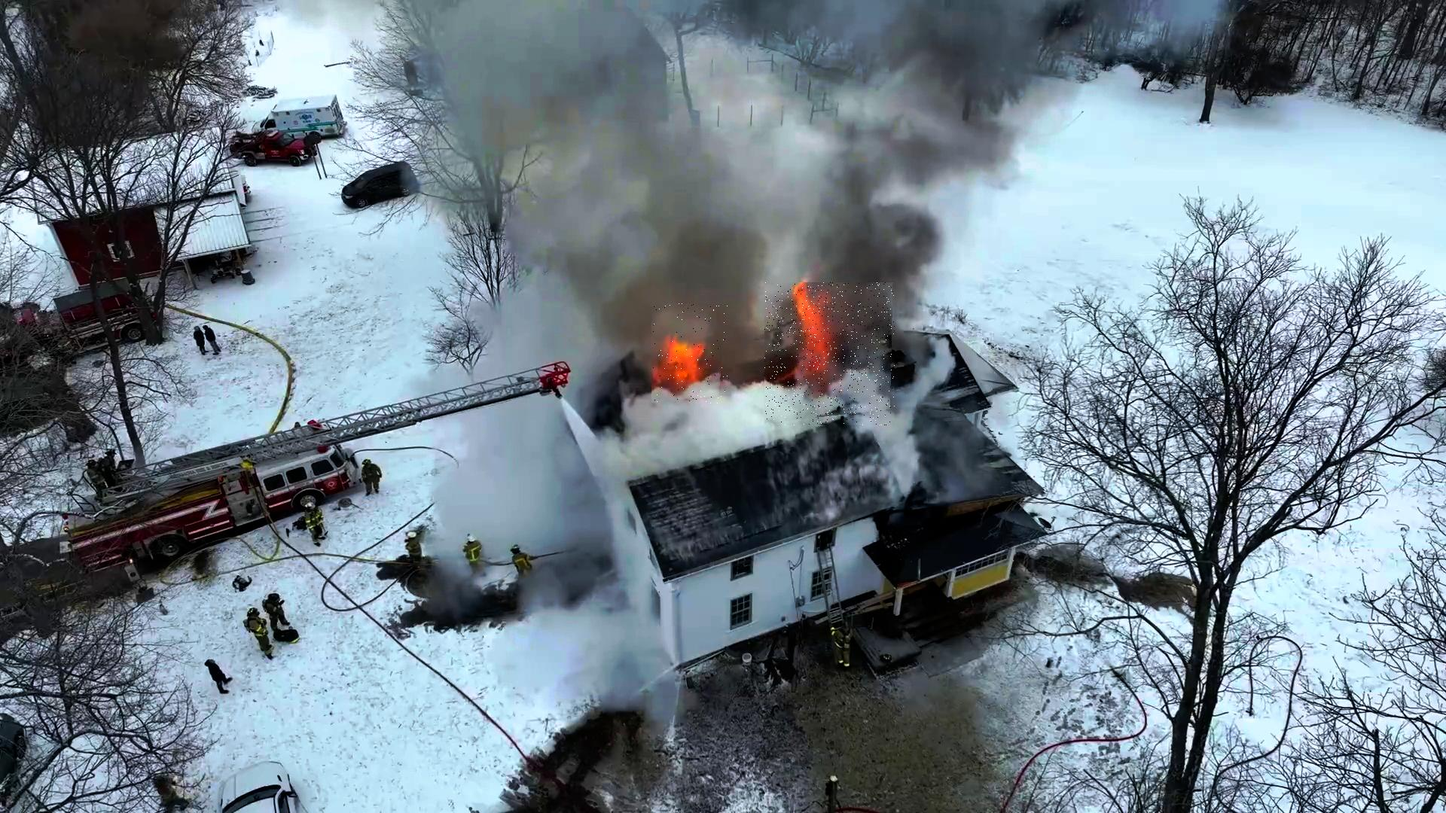fire: (765, 283, 895, 426), (652, 304, 730, 404)
